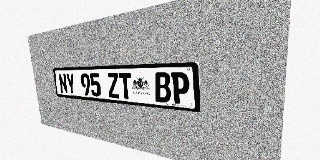5: (89, 73, 101, 97)
9: (80, 73, 91, 96)
B: (154, 72, 171, 103)
N: (58, 73, 68, 94)
P: (171, 72, 190, 105)
T: (118, 73, 133, 100)
Y: (66, 73, 76, 95)
Z: (107, 73, 120, 98)
